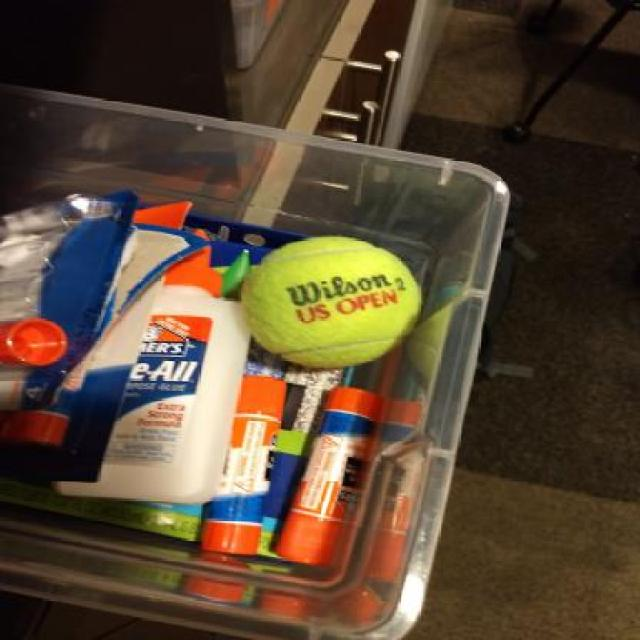Tennis_Ball: (243, 229, 424, 371)
